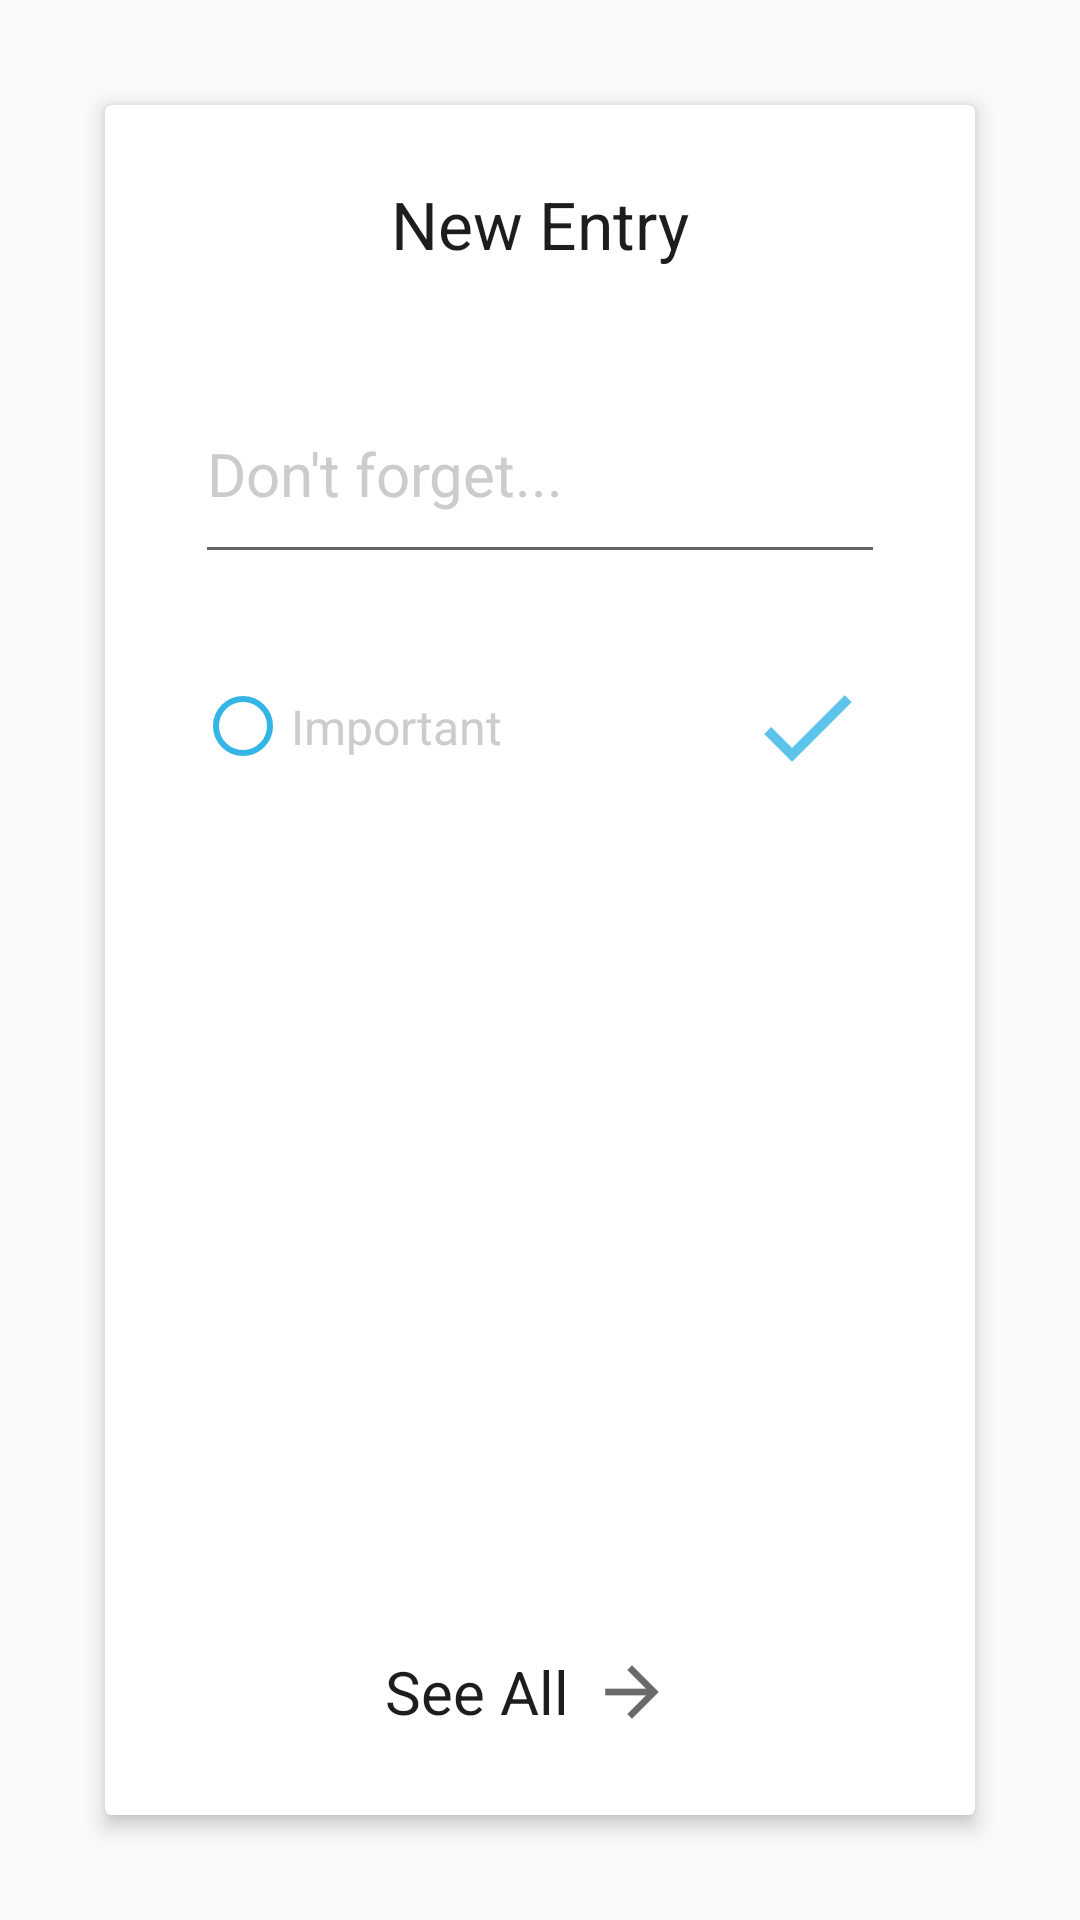

Icons on this 1080*1920 Android screen, each with its box as bbox=[x1, y1, x2, y2]:
done: bbox=[764, 695, 852, 762]
forward: bbox=[605, 1665, 659, 1719]
